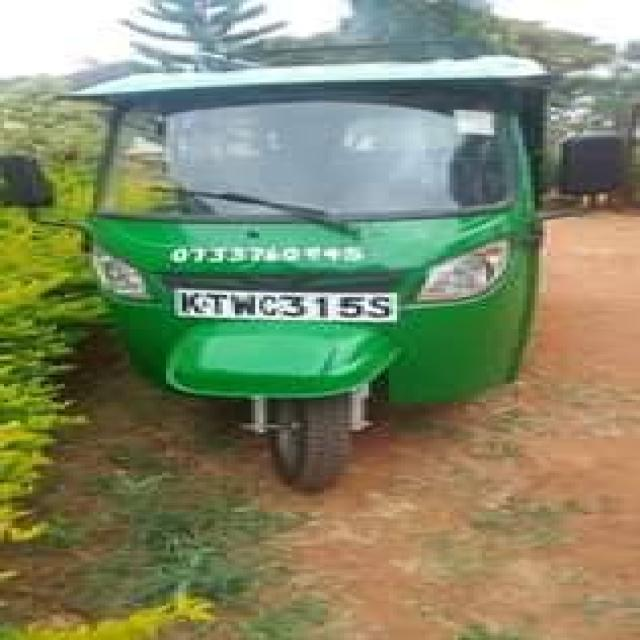tuktuk: (0, 19, 640, 566)
